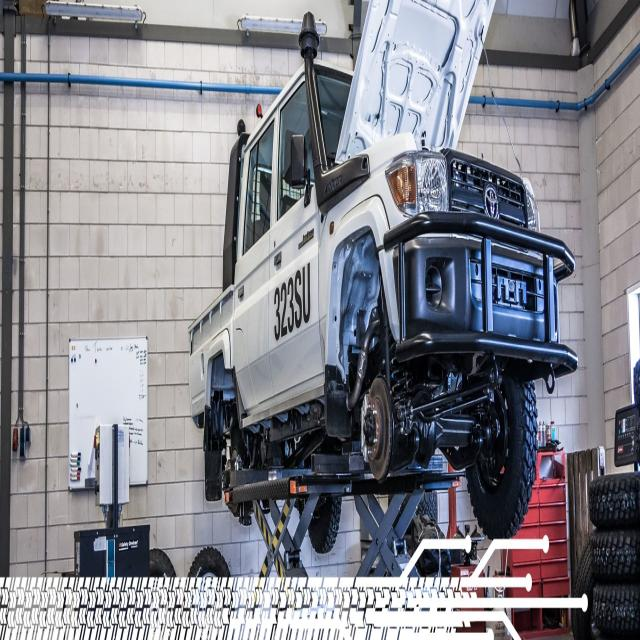light_vehicle: (178, 30, 572, 577)
